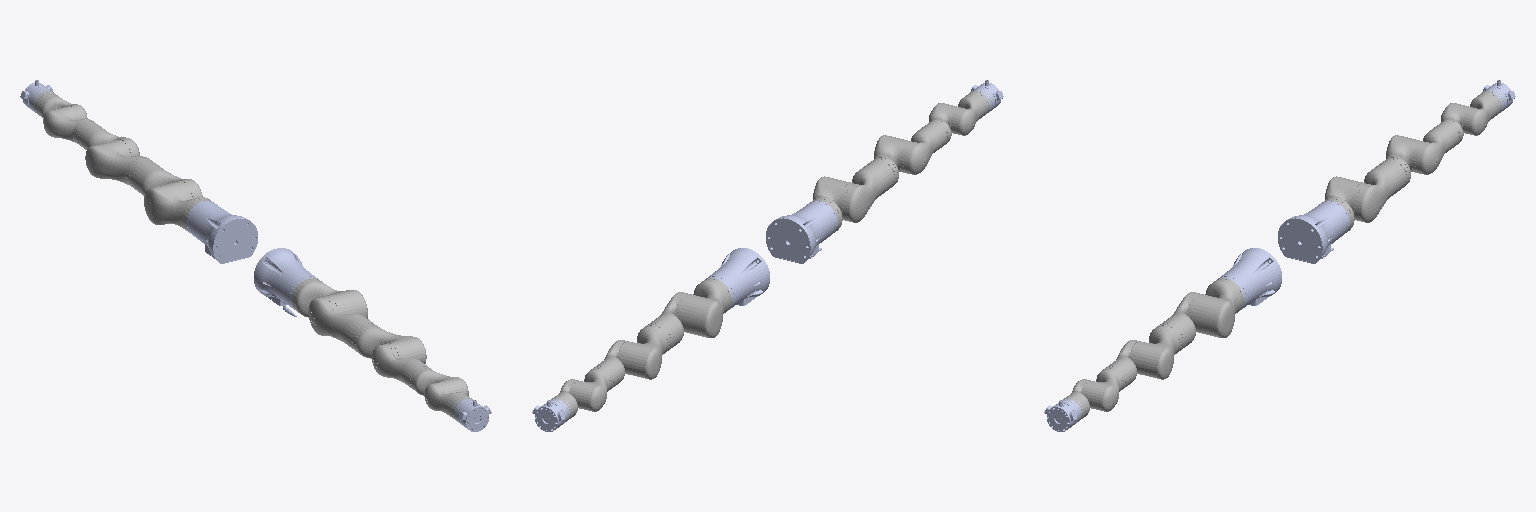
URDF robot description (dual_arm_robot_fixed):
<?xml version="1.0" encoding="utf-8"?>
<!-- This URDF was automatically created by SolidWorks to URDF Exporter! Originally created by [author] ([email redacted]) 
     Commit Version: 1.6.0-1-g15f4949  Build Version: 1.6.7594.29634
     For more information, please see http://wiki.ros.org/sw_urdf_exporter -->
<robot
  name="dual_arm_robot_fixed">

  <!-- 1. 添加虚拟根链接（无惯性参数） -->
  <link name="world">
    <!-- 不需要惯性参数 -->
  </link>
  <!-- 2. 添加从虚拟根链接到base_link的固定关节 -->
  <joint name="world_to_base_link" type="fixed">
    <parent link="world"/>
    <child link="base_link"/>
    <!-- 关节原点（如果base_link原本在世界坐标系原点，这里可不设置） -->
    <origin xyz="0 0 0" rpy="0 0 0"/>
  </joint>
  
  <link
    name="base_link">
    <inertial>
      <origin
        xyz="0.002029 -0.0052849 0.182"
        rpy="0 0 0" />
      <mass
        value="12.558" />
      <inertia
        ixx="0.45964"
        ixy="9.8502E-07"
        ixz="-0.00022633"
        iyy="0.47124"
        iyz="-6.4994E-06"
        izz="0.70947" />
    </inertial>
    <visual>
      <origin
        xyz="0 0 0"
        rpy="0 0 0" />
      <geometry>
        <mesh
          filename="package://dual_arm_robot_fixed/meshes/base_link.STL" />
      </geometry>
      <material
        name="">
        <color
          rgba="0.75294 0.75294 0.75294 1" />
      </material>
    </visual>
    <collision>
      <origin
        xyz="0 0 0"
        rpy="0 0 0" />
      <geometry>
        <mesh
          filename="package://dual_arm_robot_fixed/meshes/base_link.STL" />
      </geometry>
    </collision>
  </link>
  <link
    name="link_lbase">
    <inertial>
      <origin
        xyz="-0.00043286 -3.2797E-05 0.060009"
        rpy="0 0 0" />
      <mass
        value="0.84006" />
      <inertia
        ixx="0.001723"
        ixy="2.4865E-06"
        ixz="-3.6776E-05"
        iyy="0.0017068"
        iyz="1.7182E-06"
        izz="0.00090402" />
    </inertial>
    <visual>
      <origin
        xyz="0 0 0"
        rpy="0 0 0" />
      <geometry>
        <mesh
          filename="package://dual_arm_robot_fixed/meshes/link_lbase.STL" />
      </geometry>
      <material
        name="">
        <color
          rgba="0.79216 0.81961 0.93333 1" />
      </material>
    </visual>
    <collision>
      <origin
        xyz="0 0 0"
        rpy="0 0 0" />
      <geometry>
        <mesh
          filename="package://dual_arm_robot_fixed/meshes/link_lbase.STL" />
      </geometry>
    </collision>
  </link>
  <joint
    name="joint_lbase"
    type="fixed">
    <origin
      xyz="0 0.085 1.162"
      rpy="-1.5708 1.5708 0" />
    <parent
      link="base_link" />
    <child
      link="link_lbase" />
    <axis
      xyz="0 0 0" />
  </joint>

  <link
    name="Link_left1">
    <inertial>
      <origin
        xyz="2.2868E-07 0.021108 -0.025187"
        rpy="0 0 0" />
      <mass
        value="0.59354" />
      <inertia
        ixx="0.0012661"
        ixy="-1.463E-08"
        ixz="-1.0732E-08"
        iyy="0.0011816"
        iyz="-0.00021119"
        izz="0.00056133" />
    </inertial>
    <visual>
      <origin
        xyz="0 0 0"
        rpy="0 0 0" />
      <geometry>
        <mesh
          filename="package://dual_arm_robot_fixed/meshes/Link_left1.STL" />
      </geometry>
      <material
        name="">
        <color
          rgba="0.75294 0.75294 0.75294 1" />
      </material>
    </visual>
    <collision>
      <origin
        xyz="0 0 0"
        rpy="0 0 0" />
      <geometry>
        <mesh
          filename="package://dual_arm_robot_fixed/meshes/Link_left1.STL" />
      </geometry>
    </collision>
  </link>
  <joint
    name="Joint_left1"
    type="revolute">
    <origin
      xyz="0 0 0.2405"
      rpy="0 0 0" />
    <parent
      link="link_lbase" />
    <child
      link="Link_left1" />
    <axis
      xyz="0 0 1" />
    <limit
      lower="-3.106"
      upper="3.106"
      effort="60"
      velocity="3.14" />
  </joint>




  <link
    name="Link_left2">
    <inertial>
      <origin
        xyz="0.15226 8.9275E-07 -0.0059028"
        rpy="0 0 0" />
      <mass
        value="1.4" />
      <inertia
        ixx="0.00063253"
        ixy="4.3105E-10"
        ixz="0.00042162"
        iyy="0.0020527"
        iyz="-3.2771E-09"
        izz="0.0019528" />
    </inertial>
    <visual>
      <origin
        xyz="0 0 0"
        rpy="0 0 0" />
      <geometry>
        <mesh
          filename="package://dual_arm_robot_fixed/meshes/Link_left2.STL" />
      </geometry>
      <material
        name="">
        <color
          rgba="0.75294 0.75294 0.75294 1" />
      </material>
    </visual>
    <collision>
      <origin
        xyz="0 0 0"
        rpy="0 0 0" />
      <geometry>
        <mesh
          filename="package://dual_arm_robot_fixed/meshes/Link_left2.STL" />
      </geometry>
    </collision>
  </link>
  <joint
    name="Joint_left2"
    type="revolute">
    <origin
      xyz="0 0 0"
      rpy="1.5708 -1.5708 0" />
    <parent
      link="Link_left1" />
    <child
      link="Link_left2" />
    <axis
      xyz="0 0 1" />
    <limit
      lower="-2.268"
      upper="2.268"
      effort="60"
      velocity="3.14" />
  </joint>
  <link
    name="Link_left3">
    <inertial>
      <origin
        xyz="4.4478E-06 -0.059593 0.010869"
        rpy="0 0 0" />
      <mass
        value="0.7" />
      <inertia
        ixx="0.00063737"
        ixy="-5.8493E-08"
        ixz="-3.3661E-08"
        iyy="0.00015649"
        iyz="-0.00014461"
        izz="0.00061418" />
    </inertial>
    <visual>
      <origin
        xyz="0 0 0"
        rpy="0 0 0" />
      <geometry>
        <mesh
          filename="package://dual_arm_robot_fixed/meshes/Link_left3.STL" />
      </geometry>
      <material
        name="">
        <color
          rgba="0.75294 0.75294 0.75294 1" />
      </material>
    </visual>
    <collision>
      <origin
        xyz="0 0 0"
        rpy="0 0 0" />
      <geometry>
        <mesh
          filename="package://dual_arm_robot_fixed/meshes/Link_left3.STL" />
      </geometry>
    </collision>
  </link>
  <joint
    name="Joint_left3"
    type="revolute">
    <origin
      xyz="0.256 0 0"
      rpy="0 0 1.5708" />
    <parent
      link="Link_left2" />
    <child
      link="Link_left3" />
    <axis
      xyz="0 0 1" />
    <limit
      lower="-2.356"
      upper="2.356"
      effort="30"
      velocity="3.14" />
  </joint>
  <link
    name="Link_left4">
    <inertial>
      <origin
        xyz="1.1442E-06 -0.018043 -0.021539"
        rpy="0 0 0" />
      <mass
        value="0.6" />
      <inertia
        ixx="0.00028594"
        ixy="2.4155E-09"
        ixz="-1.3789E-09"
        iyy="0.00026273"
        iyz="4.4235E-05"
        izz="0.00011989" />
    </inertial>
    <visual>
      <origin
        xyz="0 0 0"
        rpy="0 0 0" />
      <geometry>
        <mesh
          filename="package://dual_arm_robot_fixed/meshes/Link_left4.STL" />
      </geometry>
      <material
        name="">
        <color
          rgba="0.75294 0.75294 0.75294 1" />
      </material>
    </visual>
    <collision>
      <origin
        xyz="0 0 0"
        rpy="0 0 0" />
      <geometry>
        <mesh
          filename="package://dual_arm_robot_fixed/meshes/Link_left4.STL" />
      </geometry>
    </collision>
  </link>
  <joint
    name="Joint_left4"
    type="revolute">
    <origin
      xyz="0 -0.21 0.00029993"
      rpy="1.5708 0 0" />
    <parent
      link="Link_left3" />
    <child
      link="Link_left4" />
    <axis
      xyz="0 0 1" />
    <limit
      lower="-3.106"
      upper="3.106"
      effort="10"
      velocity="3.92" />
  </joint>
  <link
    name="Link_left5">
    <inertial>
      <origin
        xyz="3.8935E-06 -0.059381 0.0070684"
        rpy="0 0 0" />
      <mass
        value="0.6" />
      <inertia
        ixx="0.00035054"
        ixy="-3.1343E-08"
        ixz="-1.7513E-08"
        iyy="0.00010493"
        iyz="-7.8242E-05"
        izz="0.00033448" />
    </inertial>
    <visual>
      <origin
        xyz="0 0 0"
        rpy="0 0 0" />
      <geometry>
        <mesh
          filename="package://dual_arm_robot_fixed/meshes/Link_left5.STL" />
      </geometry>
      <material
        name="">
        <color
          rgba="0.75294 0.75294 0.75294 1" />
      </material>
    </visual>
    <collision>
      <origin
        xyz="0 0 0"
        rpy="0 0 0" />
      <geometry>
        <mesh
          filename="package://dual_arm_robot_fixed/meshes/Link_left5.STL" />
      </geometry>
    </collision>
  </link>
  <joint
    name="Joint_left5"
    type="revolute">
    <origin
      xyz="0 0 0"
      rpy="-1.5708 0 0" />
    <parent
      link="Link_left4" />
    <child
      link="Link_left5" />
    <axis
      xyz="0 0 1" />
    <limit
      lower="-2.234"
      upper="2.234"
      effort="10"
      velocity="3.92" />
  </joint>
  <link
    name="Link_left6">
    <inertial>
      <origin
        xyz="0.00081825 1.3389E-05 -0.012683"
        rpy="0 0 0" />
      <mass
        value="0.1" />
      <inertia
        ixx="2.1019E-05"
        ixy="-2.2872E-08"
        ixz="-2.4452E-08"
        iyy="1.7986E-05"
        iyz="-1.0135E-08"
        izz="3.1728E-05" />
    </inertial>
    <visual>
      <origin
        xyz="0 0 0"
        rpy="0 0 0" />
      <geometry>
        <mesh
          filename="package://dual_arm_robot_fixed/meshes/Link_left6.STL" />
      </geometry>
      <material
        name="">
        <color
          rgba="0.79216 0.81961 0.93333 1" />
      </material>
    </visual>
    <collision>
      <origin
        xyz="0 0 0"
        rpy="0 0 0" />
      <geometry>
        <mesh
          filename="package://dual_arm_robot_fixed/meshes/Link_left6.STL" />
      </geometry>
    </collision>
  </link>
  <joint
    name="Joint_left6"
    type="revolute">
    <origin
      xyz="0 -0.144 -0.00029972"
      rpy="1.5708 -1.5708 0" />
    <parent
      link="Link_left5" />
    <child
      link="Link_left6" />
    <axis
      xyz="0 0 1" />
    <limit
      lower="-6.28"
      upper="6.28"
      effort="10"
      velocity="3.92" />
  </joint>
  
  <link name="Link_tool_left">
  </link>
  <joint name="Joint_tool_left" type="fixed">
    <parent link="Link_left6"/>
    <child link="Link_tool_left"/>
    <origin xyz="0 0 0" rpy="0 0 -1.5708"/>
  </joint>




  <link
    name="link_rbase">
    <inertial>
      <origin
        xyz="-0.00043298 -3.2823E-05 0.060028"
        rpy="0 0 0" />
      <mass
        value="0.83977" />
      <inertia
        ixx="0.0017222"
        ixy="2.4863E-06"
        ixz="-3.6783E-05"
        iyy="0.0017059"
        iyz="1.7174E-06"
        izz="0.00090401" />
    </inertial>
    <visual>
      <origin
        xyz="0 0 0"
        rpy="0 0 0" />
      <geometry>
        <mesh
          filename="package://dual_arm_robot_fixed/meshes/link_rbase.STL" />
      </geometry>
      <material
        name="">
        <color
          rgba="0.79216 0.81961 0.93333 1" />
      </material>
    </visual>
    <collision>
      <origin
        xyz="0 0 0"
        rpy="0 0 0" />
      <geometry>
        <mesh
          filename="package://dual_arm_robot_fixed/meshes/link_rbase.STL" />
      </geometry>
    </collision>
  </link>
  <joint
    name="joint_rbase"
    type="fixed">
    <origin
      xyz="0 -0.085 1.162"
      rpy="1.5708 1.5708 0" />
    <parent
      link="base_link" />
    <child
      link="link_rbase" />
    <axis
      xyz="0 0 0" />
  </joint>

  <link
    name="Link_right1">
    <inertial>
      <origin
        xyz="2.2833E-07 0.021108 -0.025187"
        rpy="0 0 0" />
      <mass
        value="0.59354" />
      <inertia
        ixx="0.0012661"
        ixy="-1.4634E-08"
        ixz="-1.0735E-08"
        iyy="0.0011816"
        iyz="-0.00021119"
        izz="0.00056133" />
    </inertial>
    <visual>
      <origin
        xyz="0 0 0"
        rpy="0 0 0" />
      <geometry>
        <mesh
          filename="package://dual_arm_robot_fixed/meshes/Link_right1.STL" />
      </geometry>
      <material
        name="">
        <color
          rgba="0.75294 0.75294 0.75294 1" />
      </material>
    </visual>
    <collision>
      <origin
        xyz="0 0 0"
        rpy="0 0 0" />
      <geometry>
        <mesh
          filename="package://dual_arm_robot_fixed/meshes/Link_right1.STL" />
      </geometry>
    </collision>
  </link>
  <joint
    name="Joint_right1"
    type="revolute">
    <origin
      xyz="0 0 0.2405"
      rpy="0 0 0" />
    <parent
      link="link_rbase" />
    <child
      link="Link_right1" />
    <axis
      xyz="0 0 1" />
    <limit
      lower="-3.106"
      upper="3.106"
      effort="60"
      velocity="3.14" />
  </joint>



  <link
    name="Link_right2">
    <inertial>
      <origin
        xyz="0.15226 1.0392E-06 -0.0059028"
        rpy="0 0 0" />
      <mass
        value="1.4" />
      <inertia
        ixx="0.00063253"
        ixy="1.822E-09"
        ixz="0.00042162"
        iyy="0.0020527"
        iyz="-3.4108E-09"
        izz="0.0019528" />
    </inertial>
    <visual>
      <origin
        xyz="0 0 0"
        rpy="0 0 0" />
      <geometry>
        <mesh
          filename="package://dual_arm_robot_fixed/meshes/Link_right2.STL" />
      </geometry>
      <material
        name="">
        <color
          rgba="0.75294 0.75294 0.75294 1" />
      </material>
    </visual>
    <collision>
      <origin
        xyz="0 0 0"
        rpy="0 0 0" />
      <geometry>
        <mesh
          filename="package://dual_arm_robot_fixed/meshes/Link_right2.STL" />
      </geometry>
    </collision>
  </link>
  <joint
    name="Joint_right2"
    type="revolute">
    <origin
      xyz="0 0 0"
      rpy="1.5708 -1.5708 0" />
    <parent
      link="Link_right1" />
    <child
      link="Link_right2" />
    <axis
      xyz="0 0 1" />
    <limit
      lower="-2.268"
      upper="2.268"
      effort="60"
      velocity="3.14" />
  </joint>
  <link
    name="Link_right3">
    <inertial>
      <origin
        xyz="4.4478E-06 -0.059593 0.010869"
        rpy="0 0 0" />
      <mass
        value="0.7" />
      <inertia
        ixx="0.00063737"
        ixy="-5.8494E-08"
        ixz="-3.3661E-08"
        iyy="0.00015649"
        iyz="-0.00014461"
        izz="0.00061418" />
    </inertial>
    <visual>
      <origin
        xyz="0 0 0"
        rpy="0 0 0" />
      <geometry>
        <mesh
          filename="package://dual_arm_robot_fixed/meshes/Link_right3.STL" />
      </geometry>
      <material
        name="">
        <color
          rgba="0.75294 0.75294 0.75294 1" />
      </material>
    </visual>
    <collision>
      <origin
        xyz="0 0 0"
        rpy="0 0 0" />
      <geometry>
        <mesh
          filename="package://dual_arm_robot_fixed/meshes/Link_right3.STL" />
      </geometry>
    </collision>
  </link>
  <joint
    name="Joint_right3"
    type="revolute">
    <origin
      xyz="0.256 0 0"
      rpy="0 0 1.5708" />
    <parent
      link="Link_right2" />
    <child
      link="Link_right3" />
    <axis
      xyz="0 0 1" />
    <limit
      lower="-2.356"
      upper="2.356"
      effort="30"
      velocity="3.14" />
  </joint>
  <link
    name="Link_right4">
    <inertial>
      <origin
        xyz="1.1228E-06 -0.017743 -0.021536"
        rpy="0 0 0" />
      <mass
        value="0.6" />
      <inertia
        ixx="0.00028583"
        ixy="2.6299E-09"
        ixz="-1.5947E-09"
        iyy="0.00026264"
        iyz="4.4222E-05"
        izz="0.00011987" />
    </inertial>
    <visual>
      <origin
        xyz="0 0 0"
        rpy="0 0 0" />
      <geometry>
        <mesh
          filename="package://dual_arm_robot_fixed/meshes/Link_right4.STL" />
      </geometry>
      <material
        name="">
        <color
          rgba="0.75294 0.75294 0.75294 1" />
      </material>
    </visual>
    <collision>
      <origin
        xyz="0 0 0"
        rpy="0 0 0" />
      <geometry>
        <mesh
          filename="package://dual_arm_robot_fixed/meshes/Link_right4.STL" />
      </geometry>
    </collision>
  </link>
  <joint
    name="Joint_right4"
    type="revolute">
    <origin
      xyz="0 -0.21 0"
      rpy="1.5708 0 0" />
    <parent
      link="Link_right3" />
    <child
      link="Link_right4" />
    <axis
      xyz="0 0 1" />
    <limit
      lower="-3.106"
      upper="3.106"
      effort="10"
      velocity="3.92" />
  </joint>
  <link
    name="Link_right5">
    <inertial>
      <origin
        xyz="3.9095E-06 -0.059381 0.0073724"
        rpy="0 0 0" />
      <mass
        value="0.6" />
      <inertia
        ixx="0.00035054"
        ixy="-3.1343E-08"
        ixz="-1.7492E-08"
        iyy="0.00010493"
        iyz="-7.8242E-05"
        izz="0.00033448" />
    </inertial>
    <visual>
      <origin
        xyz="0 0 0"
        rpy="0 0 0" />
      <geometry>
        <mesh
          filename="package://dual_arm_robot_fixed/meshes/Link_right5.STL" />
      </geometry>
      <material
        name="">
        <color
          rgba="0.75294 0.75294 0.75294 1" />
      </material>
    </visual>
    <collision>
      <origin
        xyz="0 0 0"
        rpy="0 0 0" />
      <geometry>
        <mesh
          filename="package://dual_arm_robot_fixed/meshes/Link_right5.STL" />
      </geometry>
    </collision>
  </link>
  <joint
    name="Joint_right5"
    type="revolute">
    <origin
      xyz="0 0 0"
      rpy="-1.5708 0 0" />
    <parent
      link="Link_right4" />
    <child
      link="Link_right5" />
    <axis
      xyz="0 0 1" />
    <limit
      lower="-2.234"
      upper="2.234"
      effort="10"
      velocity="3.92" />
  </joint>
  <link
    name="Link_right6">
    <inertial>
      <origin
        xyz="0.00081853 1.3343E-05 -0.012683"
        rpy="0 0 0" />
      <mass
        value="0.1" />
      <inertia
        ixx="2.1019E-05"
        ixy="-2.2882E-08"
        ixz="-2.4455E-08"
        iyy="1.7986E-05"
        iyz="-1.016E-08"
        izz="3.1728E-05" />
    </inertial>
    <visual>
      <origin
        xyz="0 0 0"
        rpy="0 0 0" />
      <geometry>
        <mesh
          filename="package://dual_arm_robot_fixed/meshes/Link_right6.STL" />
      </geometry>
      <material
        name="">
        <color
          rgba="0.79216 0.81961 0.93333 1" />
      </material>
    </visual>
    <collision>
      <origin
        xyz="0 0 0"
        rpy="0 0 0" />
      <geometry>
        <mesh
          filename="package://dual_arm_robot_fixed/meshes/Link_right6.STL" />
      </geometry>
    </collision>
  </link>
  <joint
    name="Joint_right6"
    type="revolute">
    <origin
      xyz="0 -0.144 0"
      rpy="1.5708 -1.5708 0" />
    <parent
      link="Link_right5" />
    <child
      link="Link_right6" />
    <axis
      xyz="0 0 1" />
    <limit
      lower="-6.28"
      upper="6.28"
      effort="10"
      velocity="3.92" />
  </joint>
  
  <link name="Link_tool_right">
  </link>
  <joint name="Joint_tool_right" type="fixed">
    <parent link="Link_right6"/>
    <child link="Link_tool_right"/>
    <origin xyz="0 0 0" rpy="0 0 -1.5708"/>
  </joint>

</robot>

--- Render facts (derived) ---
The picture shows the robot from 3 angles, left to right: view 1: azimuth 30°, elevation 25°; view 2: azimuth 150°, elevation 25°; view 3: azimuth 330°, elevation 25°; orthographic projection.
Robot: dual_arm_robot_fixed — 18 links, 17 joints (12 revolute, 5 fixed); root link world; default pose: every joint at zero.
Links seen in each view (by area): view 1: Link_right2, link_lbase, Link_left2, link_rbase, Link_left1, Link_right1, Link_right3, Link_left4, Link_right4, Link_left3, Link_right6, Link_right5 (+1 smaller); view 2: link_rbase, Link_right2, Link_left2, Link_left1, link_lbase, Link_right3, Link_left4, Link_right5, Link_right1, Link_left6, Link_left3, Link_right4; view 3: link_lbase, Link_left2, Link_right2, Link_right1, link_rbase, Link_left3, Link_right4, Link_left5, Link_left1, Link_right6, Link_right3, Link_left4.
Link boxes in pixels (x1,y1,x2,y2): Link_right2: (308,297,426,363); link_lbase: (186,201,257,263); Link_left2: (85,140,202,197); link_rbase: (254,248,317,316); Link_left1: (144,181,210,232); Link_right1: (292,278,367,318); Link_right3: (372,344,430,389); Link_left4: (43,106,93,143); Link_right4: (412,368,468,395); Link_left3: (76,121,139,155); Link_right6: (452,397,491,431); Link_right5: (424,383,472,421); link_rbase: (766,201,837,263); Link_right2: (842,135,912,222); Link_left2: (617,292,687,379); Link_left1: (675,278,731,337); link_lbase: (706,248,769,309); Link_right3: (903,122,947,174); Link_left4: (569,368,610,411); Link_right5: (954,88,993,135); Link_right1: (813,176,853,232); Link_left6: (532,397,570,431); Link_left3: (594,340,625,389); Link_right4: (929,103,961,144); link_lbase: (1278,201,1349,263); Link_left2: (1354,135,1424,222); Link_right2: (1129,292,1199,379); Link_right1: (1187,278,1243,337); link_rbase: (1218,248,1281,309); Link_left3: (1415,122,1459,174); Link_right4: (1081,368,1122,411); Link_left5: (1466,88,1505,135); Link_left1: (1325,176,1365,232); Link_right6: (1044,397,1082,431); Link_right3: (1106,340,1137,389); Link_left4: (1441,103,1473,144).
Bounding box of the posed robot: 0.1361 × 1.87 × 0.1143 m (x, y, z).
14 mesh visuals loaded from 15 distinct referenced files (14 binary STL); not drawn: 1 (reference not matched to a file when rendering).
